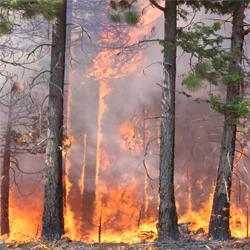fire: (93, 184, 156, 242), (179, 193, 213, 231), (11, 191, 36, 231), (231, 205, 250, 239)
